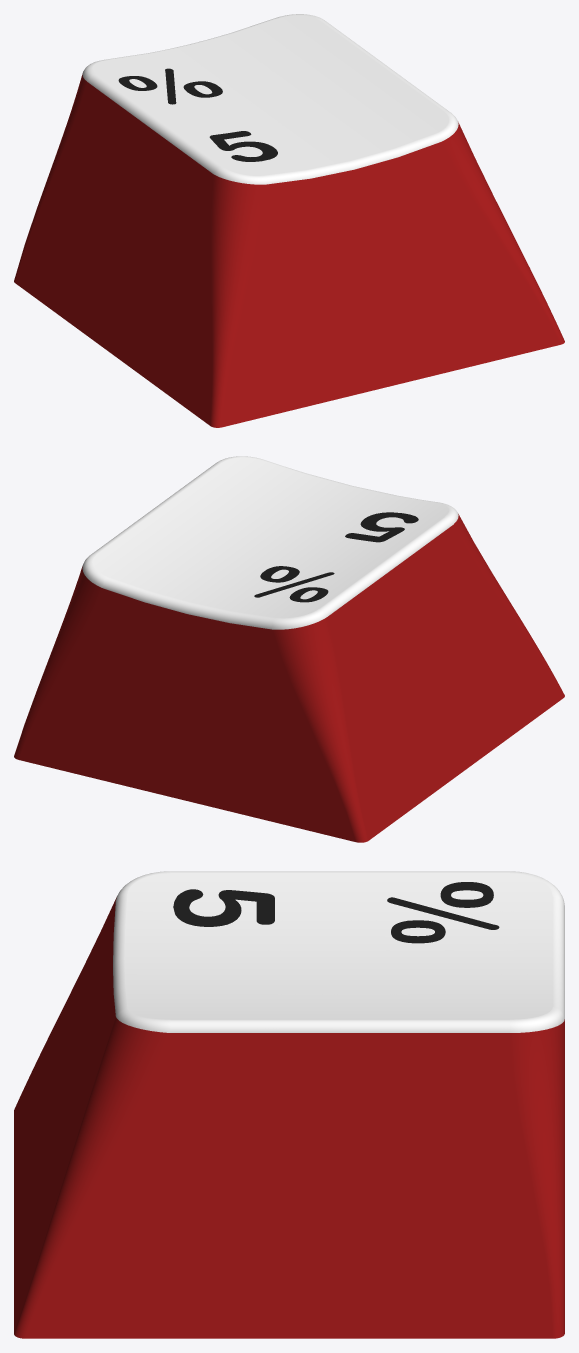
3 renders of one model, top to bottom at view 1: azimuth 30°, elevation 25°; view 2: azimuth 150°, elevation 25°; view 3: azimuth 270°, elevation 25°, orthographic. The views are drawn at different scales.
Visible parts, largest first — view 1: Body1; view 2: Body1; view 3: Body1.
Boxes of the visible parts, x1,y1,x2,y2 form: Body1: (14,14,564,427); Body1: (14,456,564,842); Body1: (14,871,564,1338).
Size of the model in its own units: 18 by 9.95 by 18.
